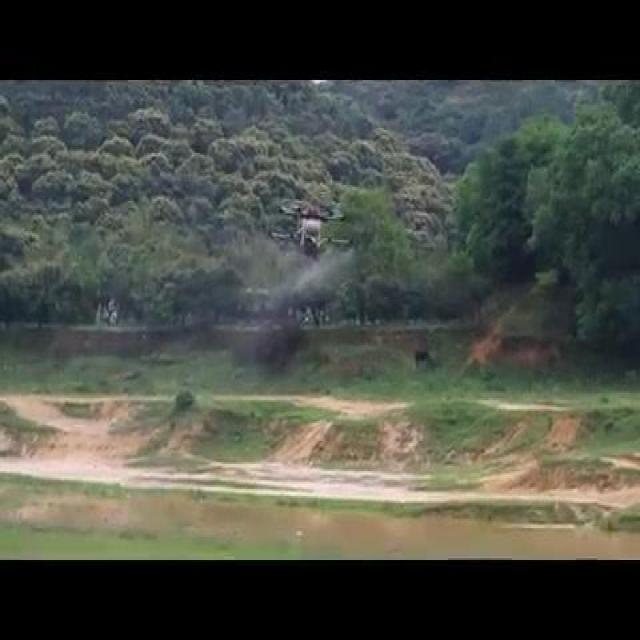UAV: (271, 204, 356, 258)
